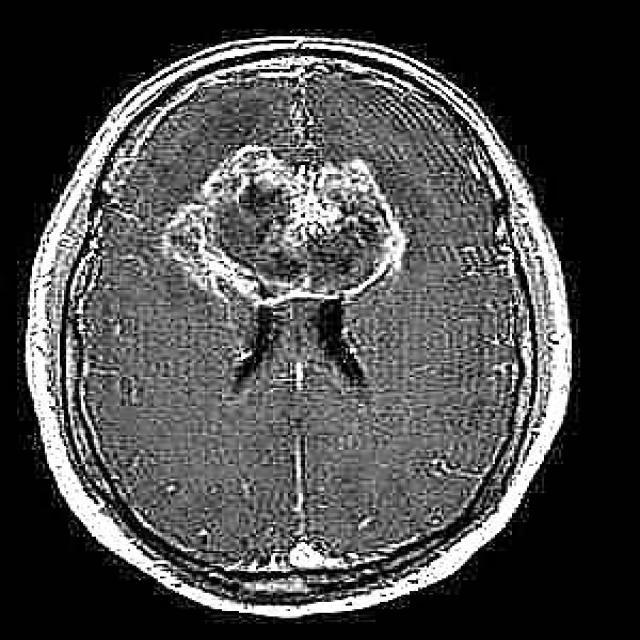brain tumor: (164, 147, 401, 303)
